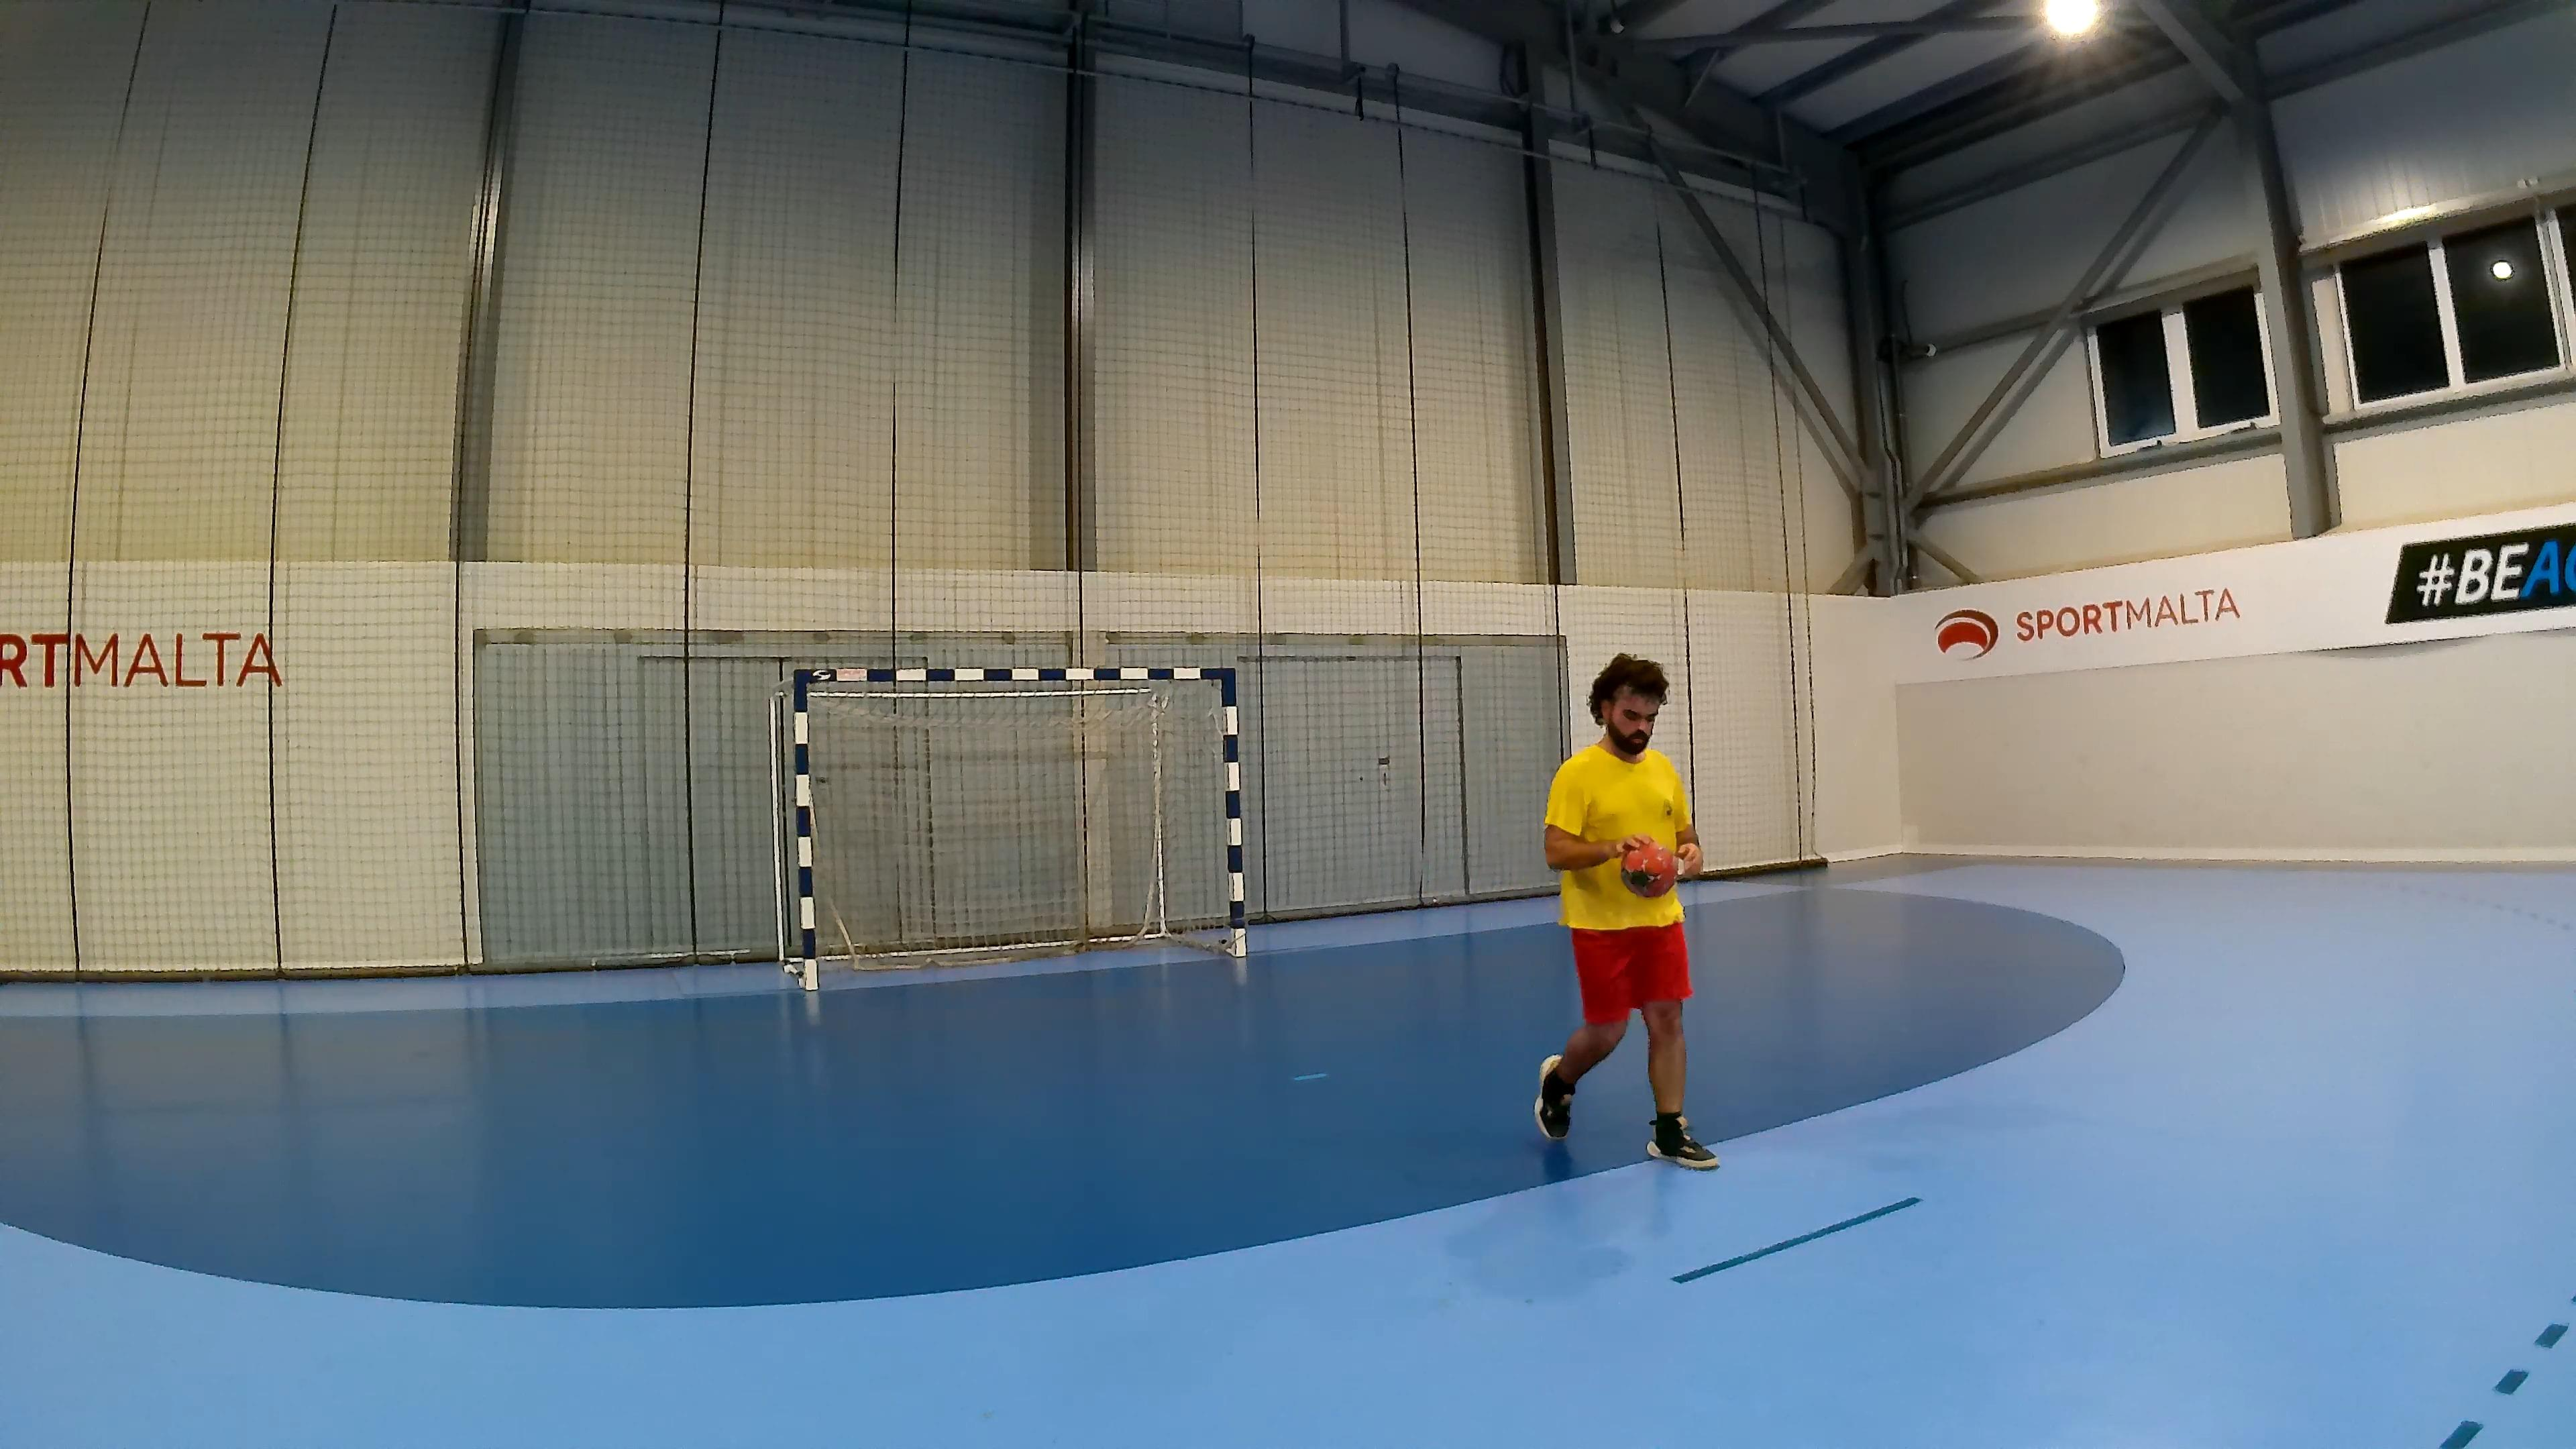handball: (1614, 839, 1683, 902)
